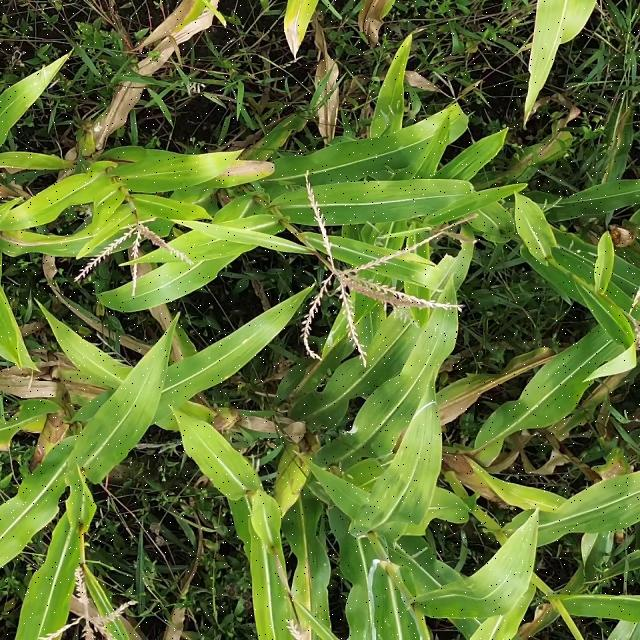northern-leaf-blight: (158, 125, 304, 184)
southern-leaf-blight: (347, 559, 441, 640)
